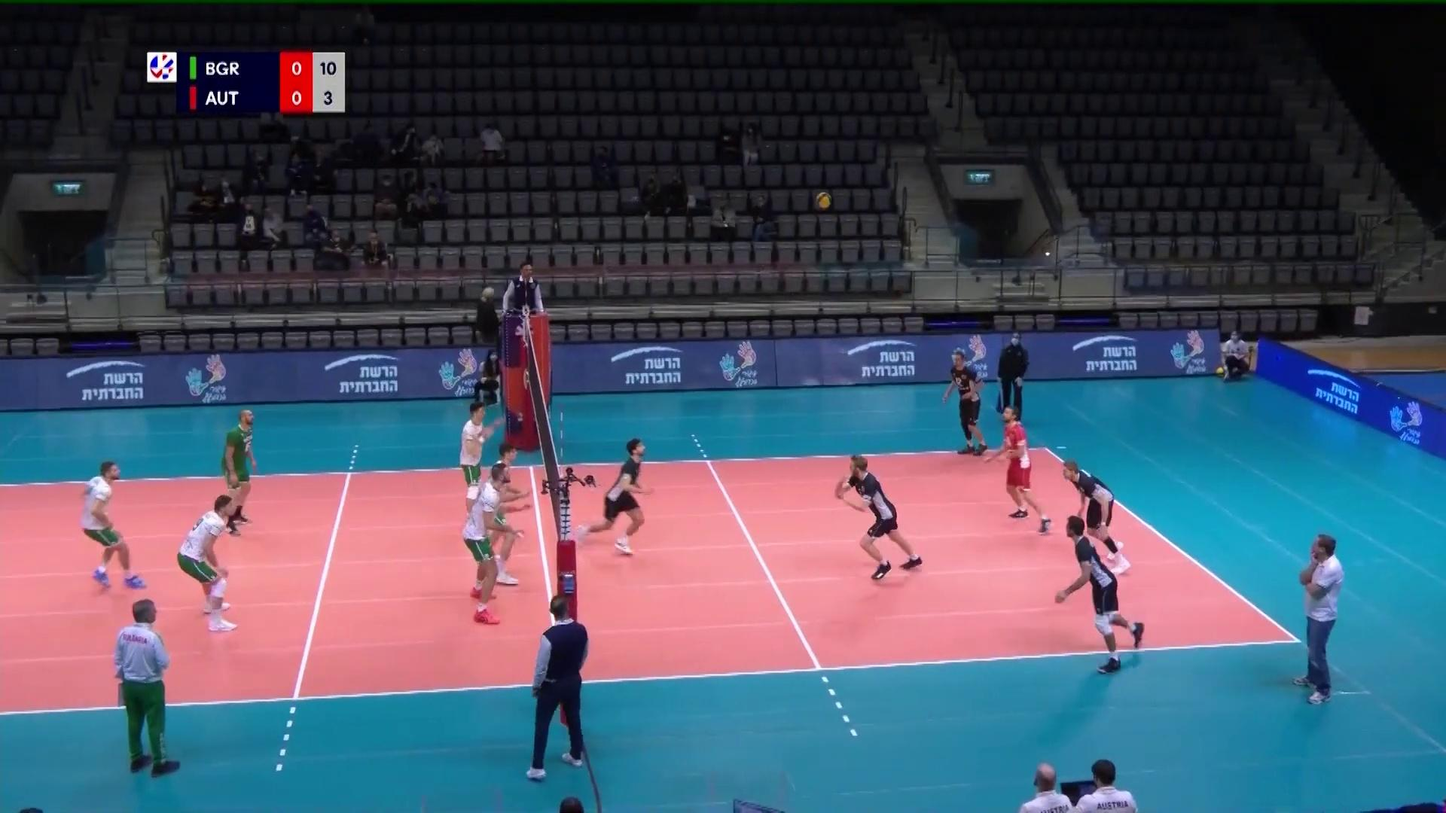ball: (815, 191, 833, 210)
